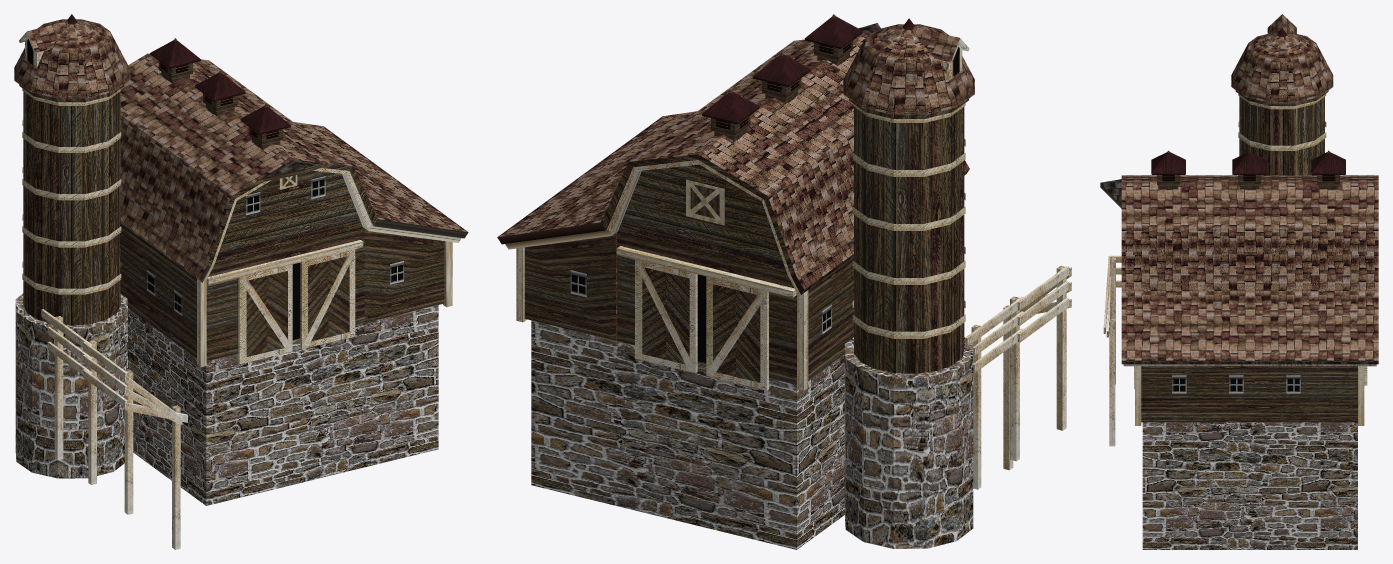
File: brit_barn_2.dae
The picture shows the model from 3 angles, left to right: view 1: azimuth 30°, elevation 25°; view 2: azimuth 150°, elevation 25°; view 3: azimuth 270°, elevation 25°; orthographic projection. The views are drawn at different scales.
Visible parts, largest first — view 1: BRITBarn2; view 2: BRITBarn2; view 3: BRITBarn2.
Boxes of the visible parts, x1=… form: BRITBarn2: x1=14, y1=14, x2=468, y2=549; BRITBarn2: x1=497, y1=14, x2=1071, y2=549; BRITBarn2: x1=1100, y1=14, x2=1378, y2=549.
Size of the model in its own units: 26.3 by 20.09 by 32.91.
